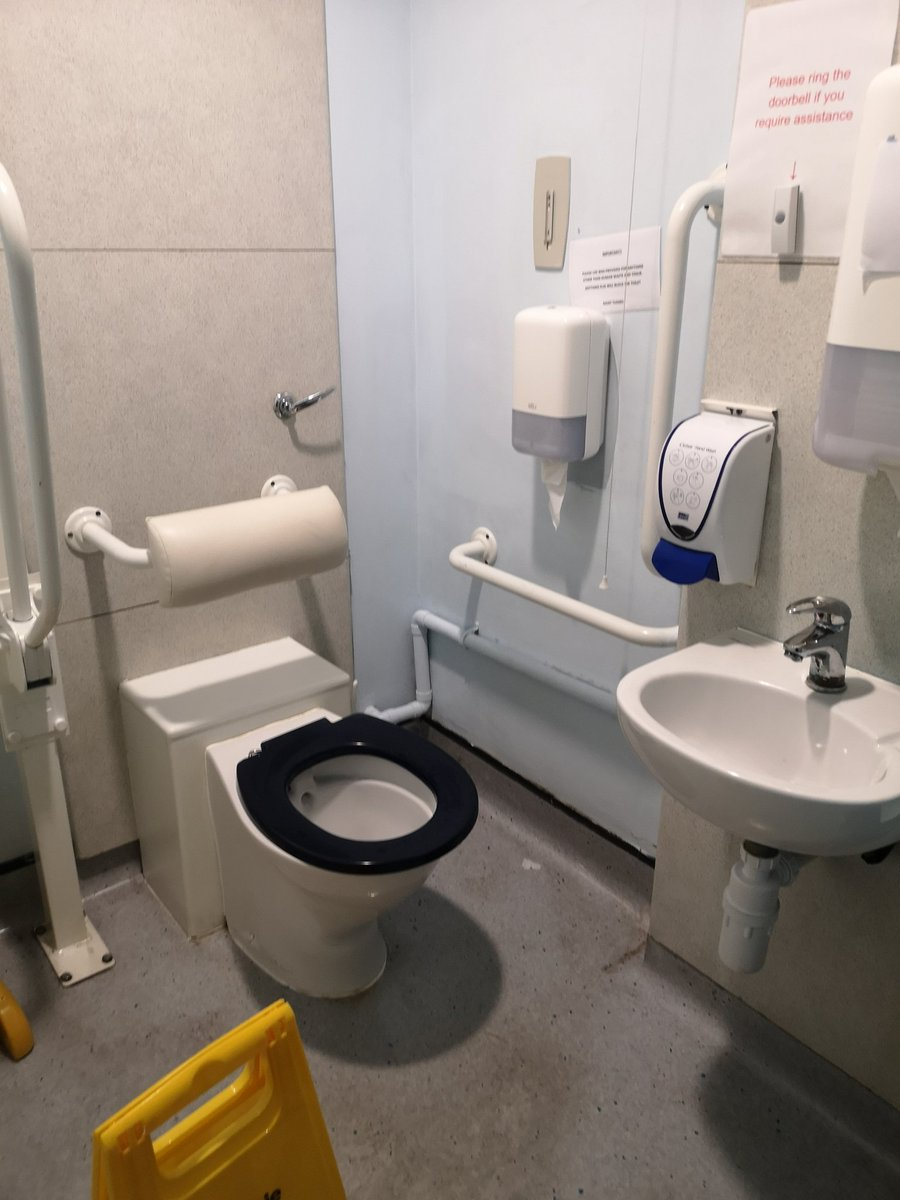dispenser: (811, 63, 900, 474), (651, 399, 781, 586), (512, 303, 612, 465)
faucet: (778, 583, 857, 704)
restroom_assist_bar: (66, 477, 352, 609), (639, 158, 728, 575), (1, 158, 62, 649), (448, 527, 680, 648)
sink: (615, 594, 900, 976)
toilet: (114, 638, 482, 999)
toilet_handle: (271, 381, 342, 424)
